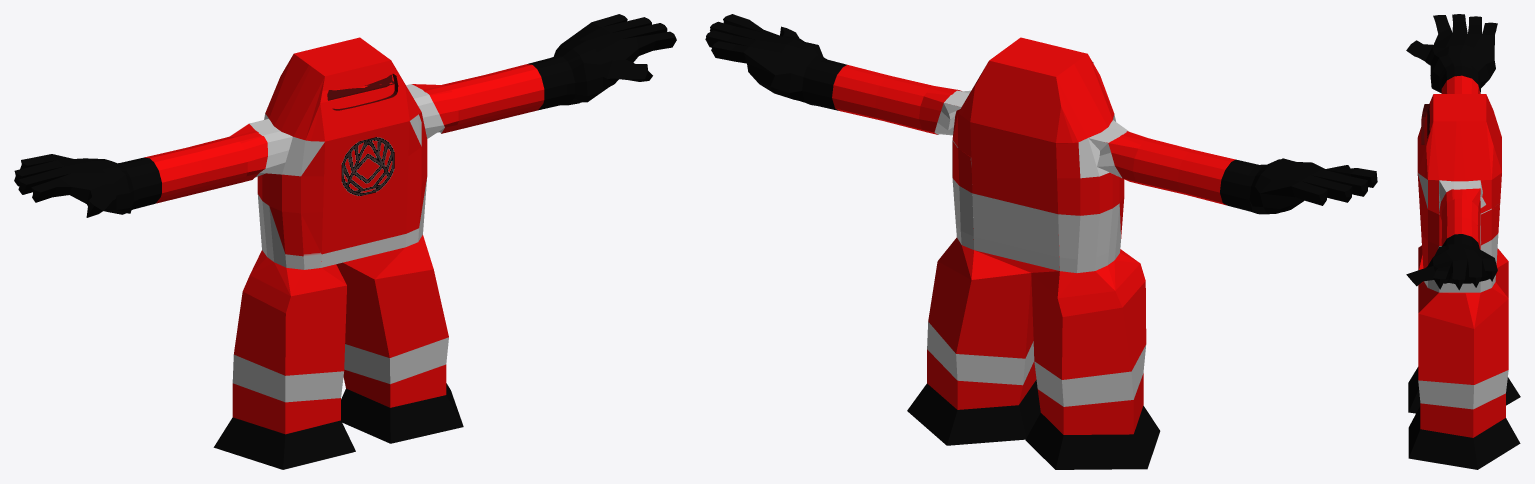
The model's file is Poopotron.obj.
3 views of the same model, side by side, from view 1: azimuth 30°, elevation 25°; view 2: azimuth 150°, elevation 25°; view 3: azimuth 270°, elevation 25° (orthographic). The views are drawn at different scales.
Parts seen in each view (by area): view 1: Legs_Plane.003, Body_Plane.005, Arms_Plane.002, Left_Hand_Plane.007, Shoulders_Plane.008, Plane_Plane.009, Visor_Plane.006; view 2: Legs_Plane.003, Body_Plane.005, Arms_Plane.002, Left_Hand_Plane.007, Shoulders_Plane.008; view 3: Legs_Plane.003, Body_Plane.005, Arms_Plane.002, Left_Hand_Plane.007, Shoulders_Plane.008, Visor_Plane.006.
Boxes of the visible parts, x1,y1,x2,y2 form: Legs_Plane.003: [213, 235, 463, 469]; Body_Plane.005: [257, 37, 427, 269]; Arms_Plane.002: [144, 14, 676, 203]; Left_Hand_Plane.007: [14, 154, 161, 217]; Shoulders_Plane.008: [249, 84, 444, 177]; Plane_Plane.009: [341, 137, 394, 196]; Visor_Plane.006: [327, 74, 398, 110]; Legs_Plane.003: [907, 228, 1160, 469]; Body_Plane.005: [952, 37, 1124, 272]; Arms_Plane.002: [705, 14, 1235, 205]; Left_Hand_Plane.007: [1220, 158, 1377, 214]; Shoulders_Plane.008: [934, 90, 1129, 178]; Legs_Plane.003: [1408, 245, 1520, 469]; Body_Plane.005: [1417, 94, 1501, 292]; Arms_Plane.002: [1406, 75, 1497, 290]; Left_Hand_Plane.007: [1406, 14, 1497, 93]; Shoulders_Plane.008: [1418, 173, 1491, 214]; Visor_Plane.006: [1421, 104, 1429, 144].
Bounding box in the file's own units: 9.83 × 5.36 × 1.78.
Materials: 1 (1 with a texture image).
